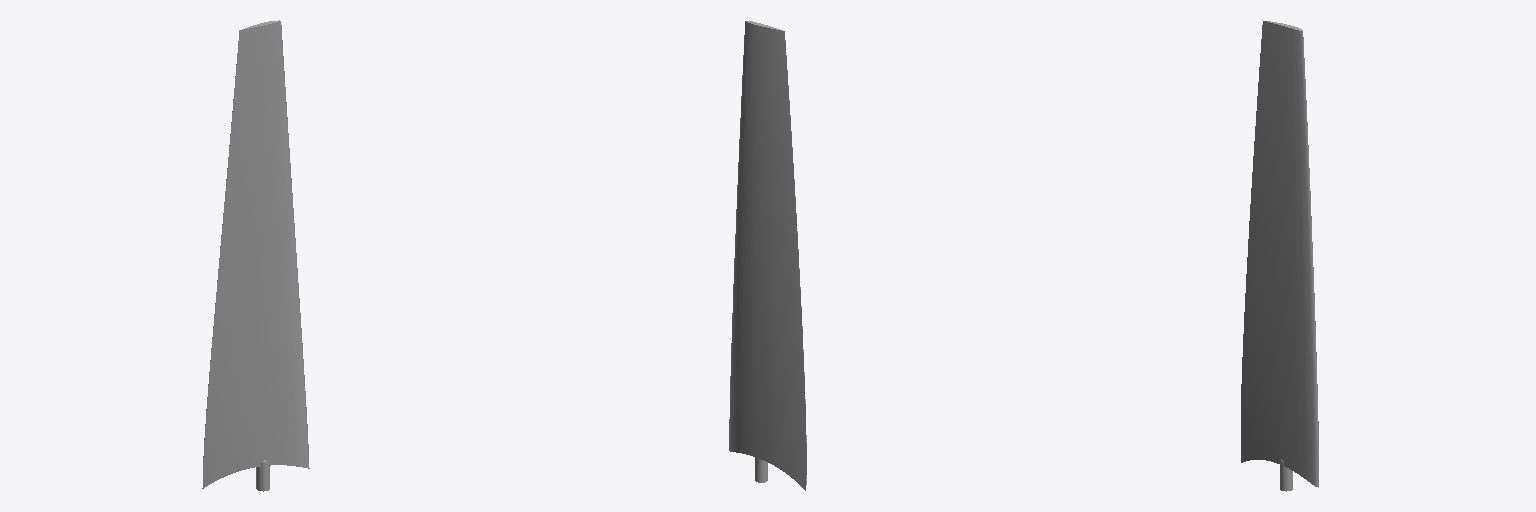
The robot description file, URDF, robot "myobj":
<robot name="myobj">
  <link name="tray_base_link">
    <contact>
      <lateral_friction value="0.5"/>
      <rolling_friction value="0.0"/>
      <contact_cfm value="0.0"/>
      <contact_erp value="1.0"/>
    </contact>
    <inertial>
      <origin rpy="0 0 0" xyz="0 0 0"/>
      <mass value="0"/>
      <inertia ixx="0" ixy="0" ixz="0" iyy="0" iyz="0" izz="0"/>
    </inertial>
    <visual>
      <origin rpy="0 0 0" xyz="0 0 0"/>
      <geometry>
        <mesh filename="../mould/blade2.obj" scale="0.0008 0.0008 0.0008"/>
      </geometry>
      <material name="tray_material">
        <color rgba="0.7 0.7 0.7 1"/>
      </material>
    </visual>
    <collision>
      <origin rpy="0 0 0" xyz="0 0 0"/>
      <geometry>
        <mesh filename="../mould/blade2.obj" scale="0.0008 0.0008 0.0008"/>
      </geometry>
    </collision>
  </link>
</robot>

--- Facts derived from the render (not from the file) ---
The picture shows the robot from 3 angles, left to right: view 1: azimuth 30°, elevation 25°; view 2: azimuth 150°, elevation 25°; view 3: azimuth 330°, elevation 25°; orthographic projection.
Model myobj with 1 links and 0 joints (none), rooted at tray_base_link, posed every joint at zero.
Visible links, largest first — view 1: tray_base_link; view 2: tray_base_link; view 3: tray_base_link.
Boxes of the visible links, x1,y1,x2,y2 form: tray_base_link: [202, 20, 309, 491]; tray_base_link: [729, 20, 806, 490]; tray_base_link: [1241, 21, 1318, 491].
Bounding box of the posed robot: 0.1234 × 0.0361 × 0.592 m (x, y, z).
1 mesh visuals loaded from 1 distinct referenced files (1 OBJ).